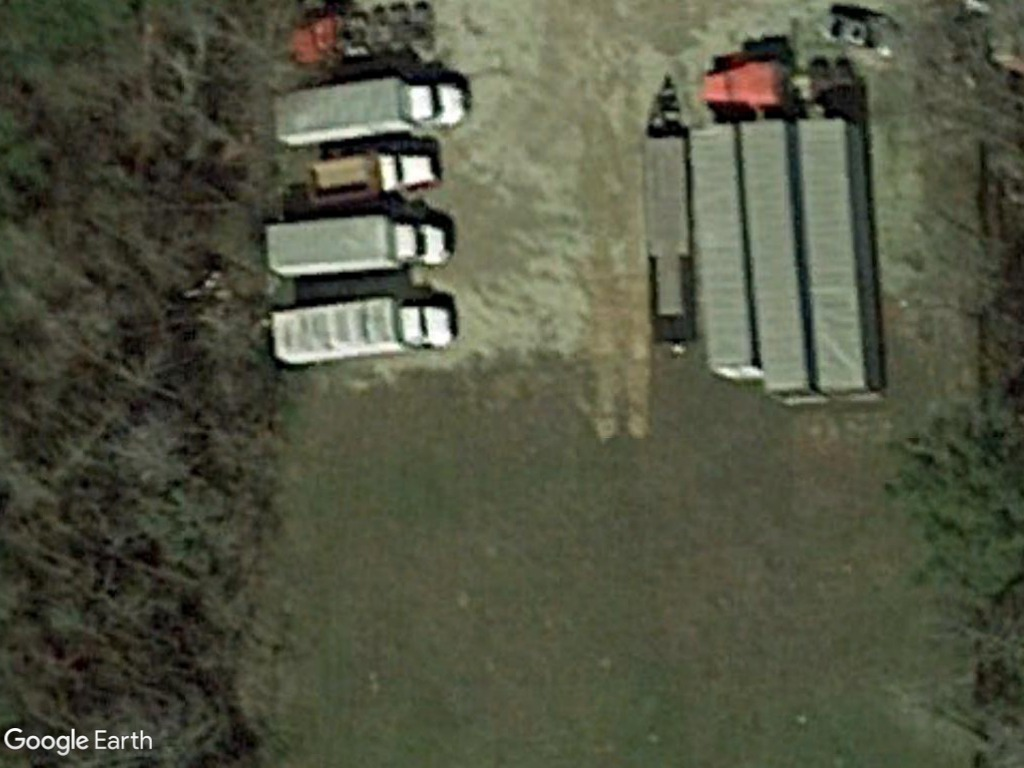other: (299, 148, 442, 214)
truck: (270, 75, 475, 147), (265, 291, 456, 368), (260, 209, 454, 283)
